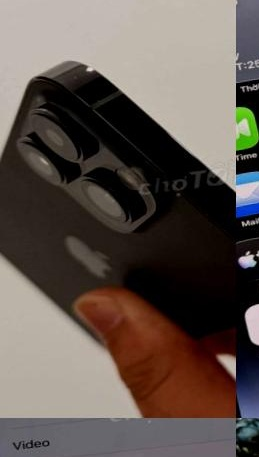scratch: (93, 91, 117, 111)
